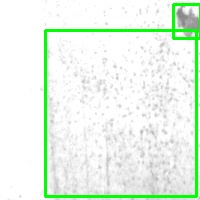patches: (173, 4, 200, 38)
pitted_surface: (45, 30, 196, 196)
